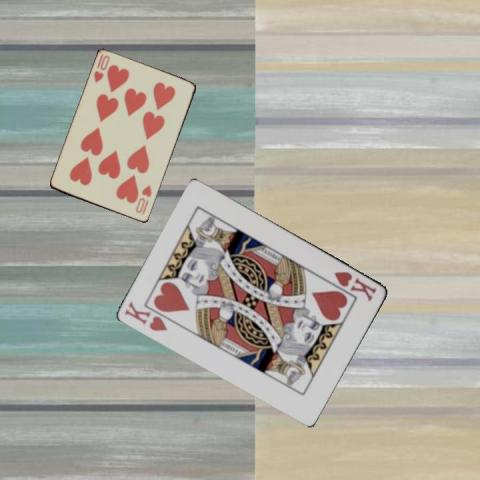10h: (133, 182, 153, 216), (91, 50, 111, 84)
Kh: (331, 268, 379, 303), (122, 299, 169, 332)
